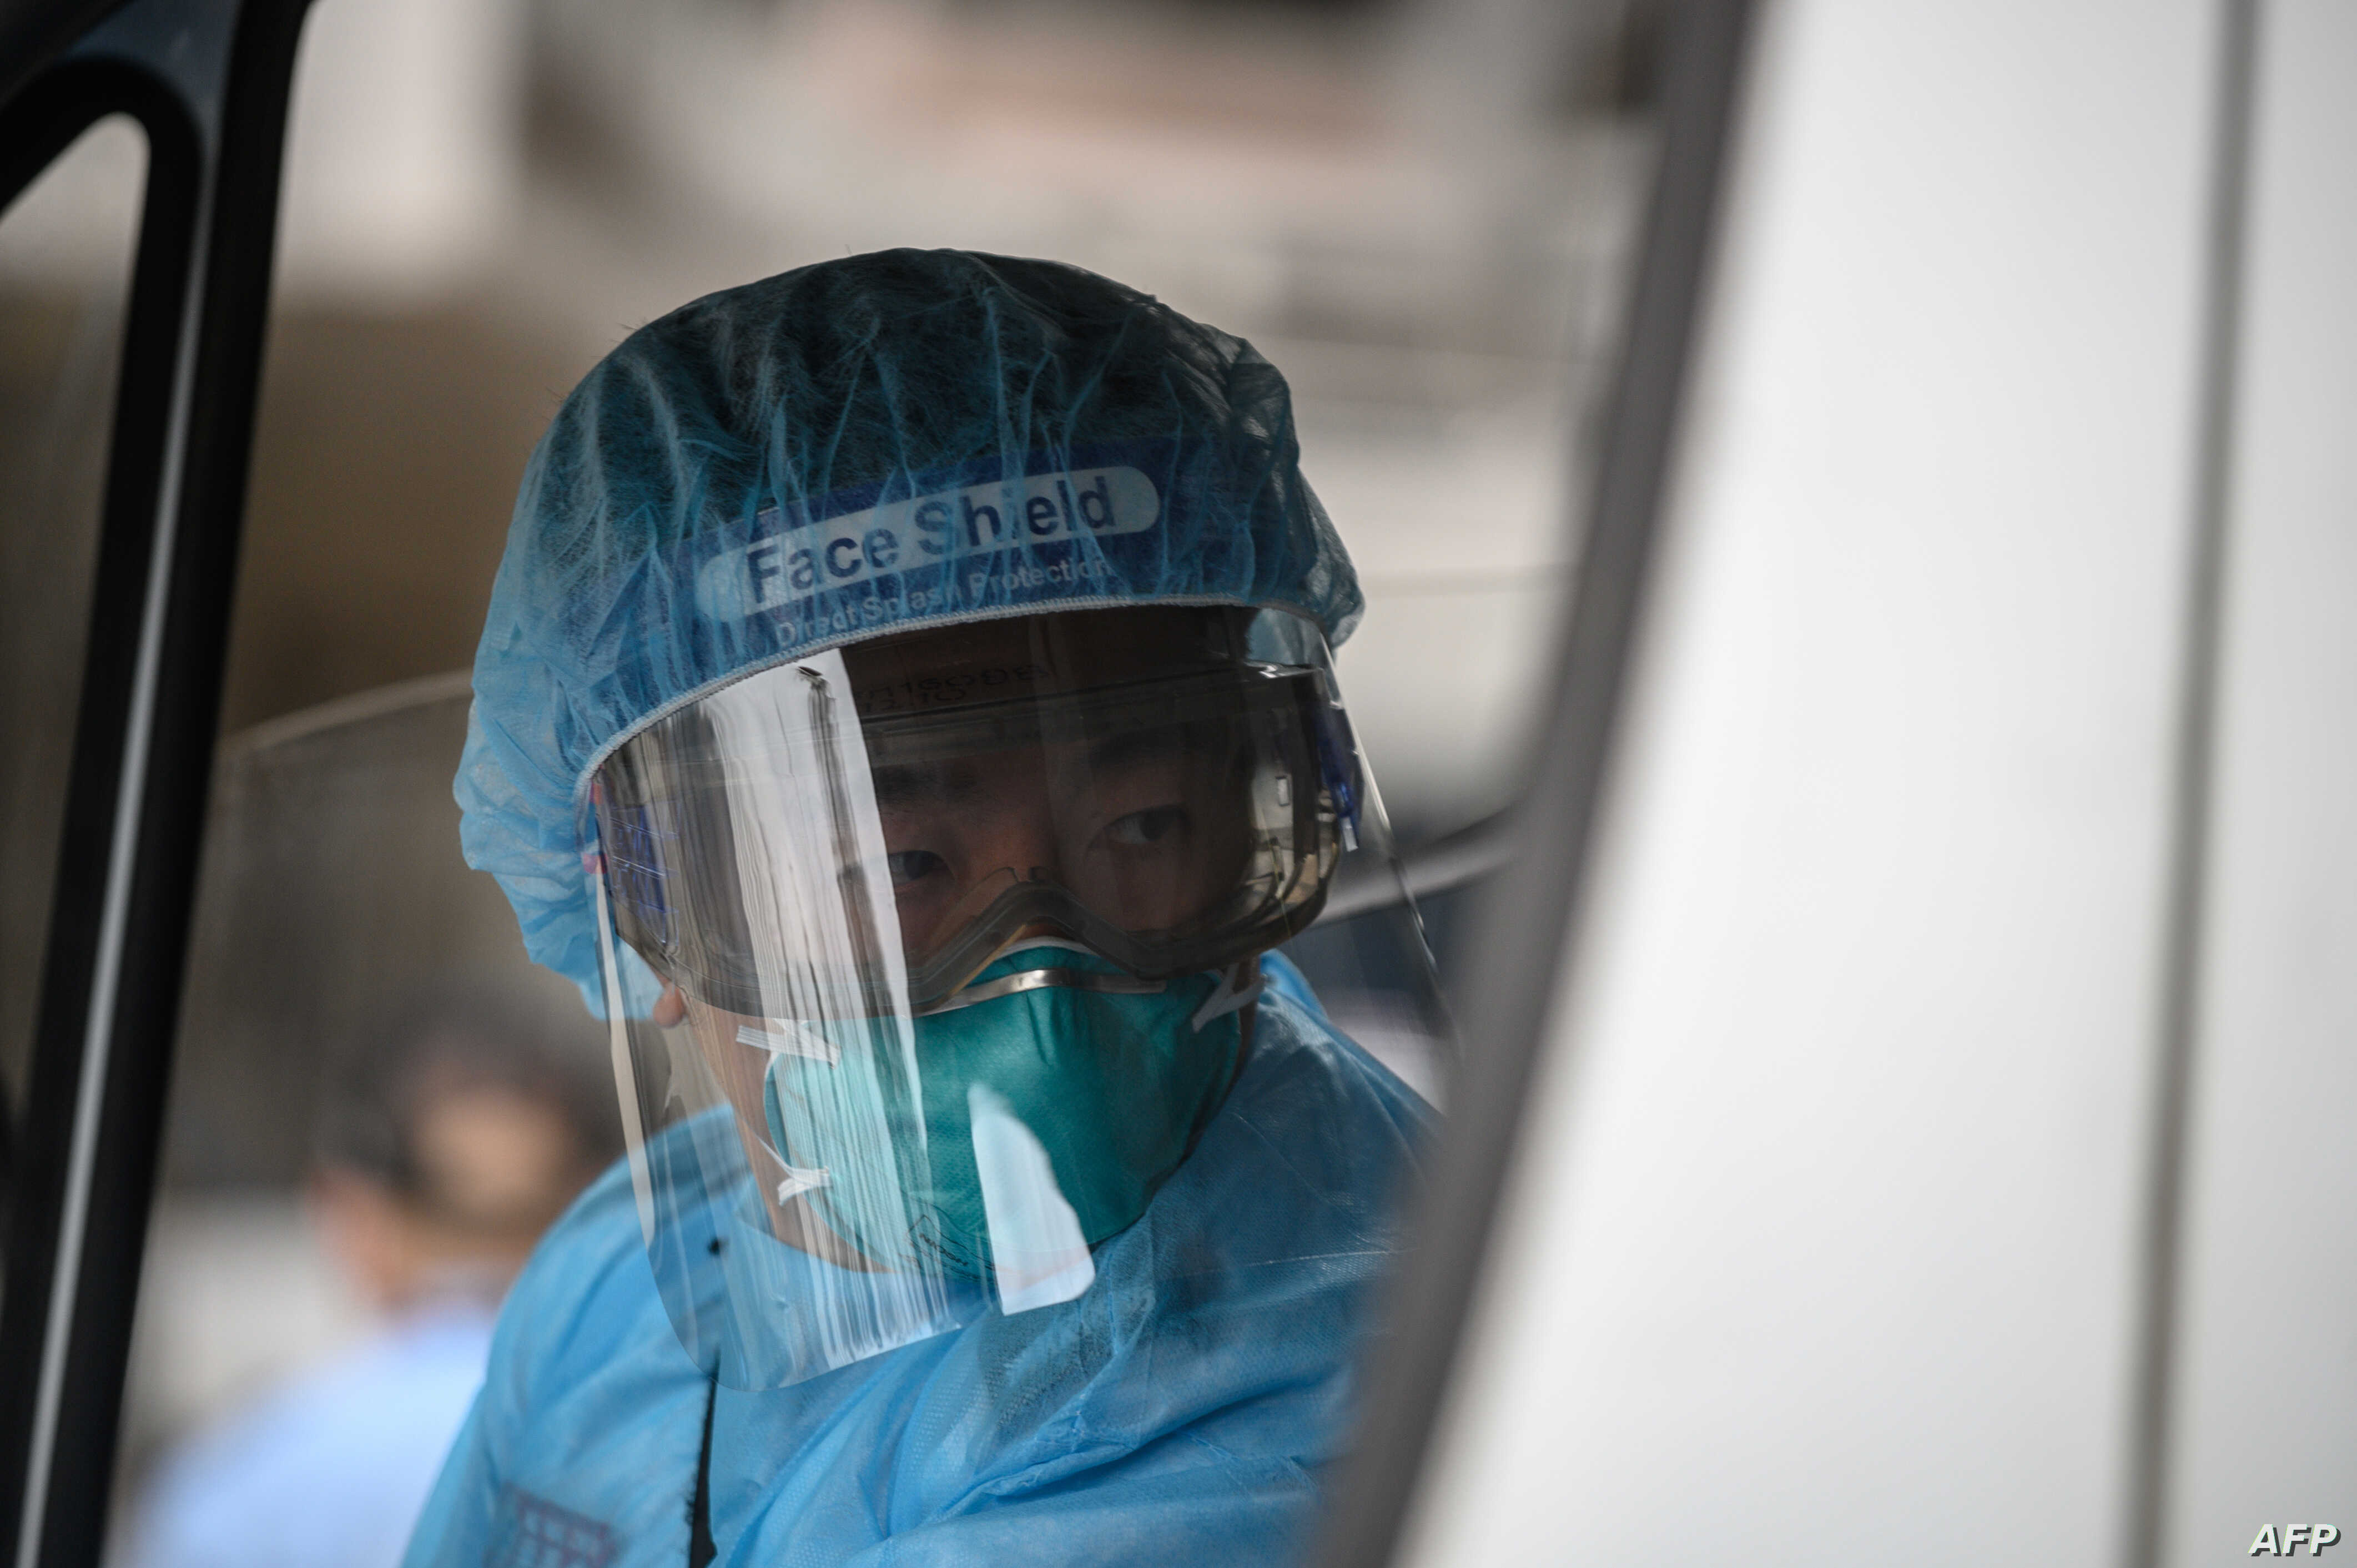n95: (738, 934, 1286, 1302)
